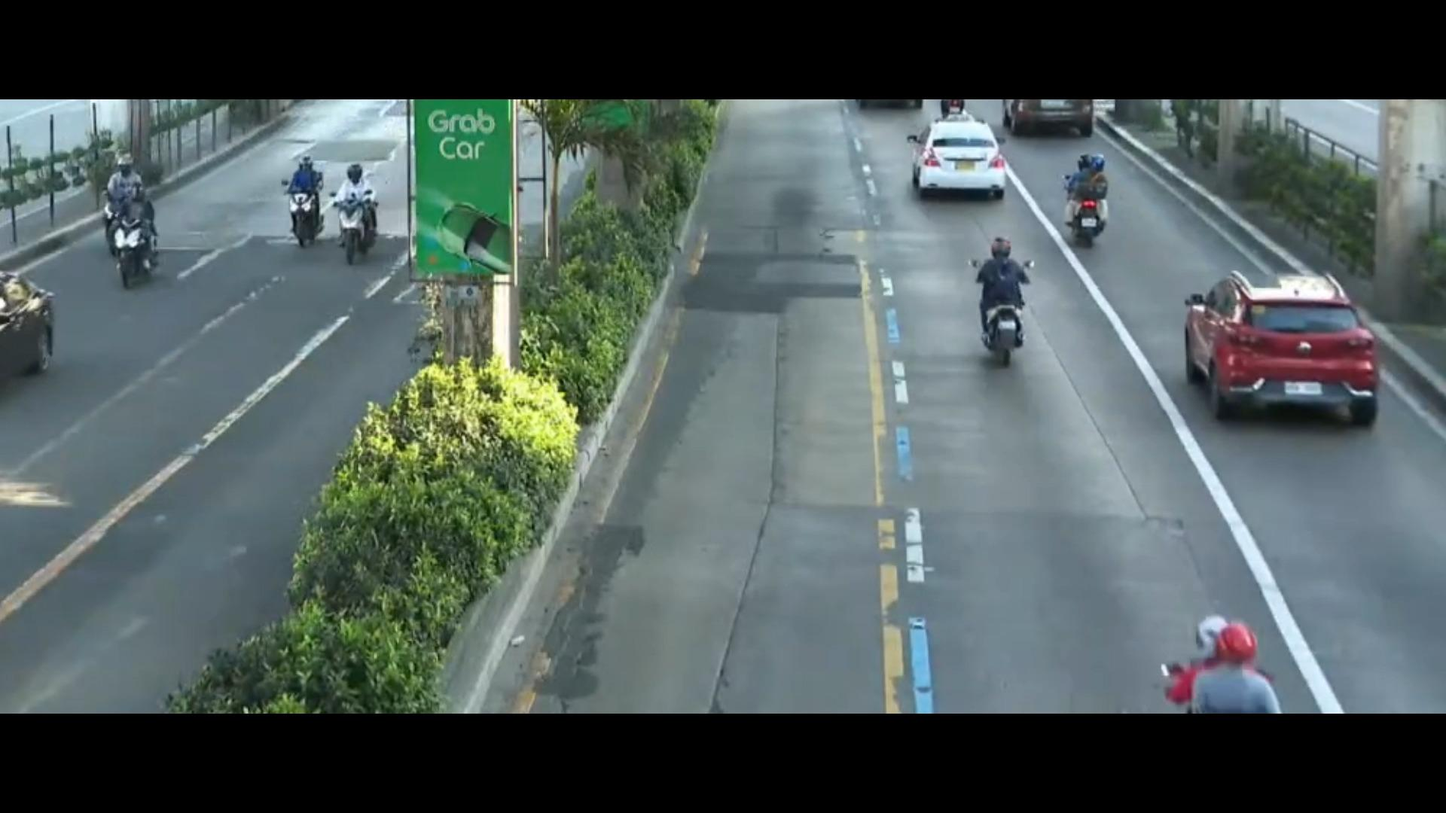Motorcycle: (952, 228, 1045, 393), (1149, 601, 1277, 712), (1047, 143, 1130, 266), (101, 179, 174, 295), (324, 155, 383, 268), (277, 142, 327, 239), (95, 149, 143, 227)
SUV: (1173, 238, 1399, 430)
Sedan: (912, 115, 1029, 208)
